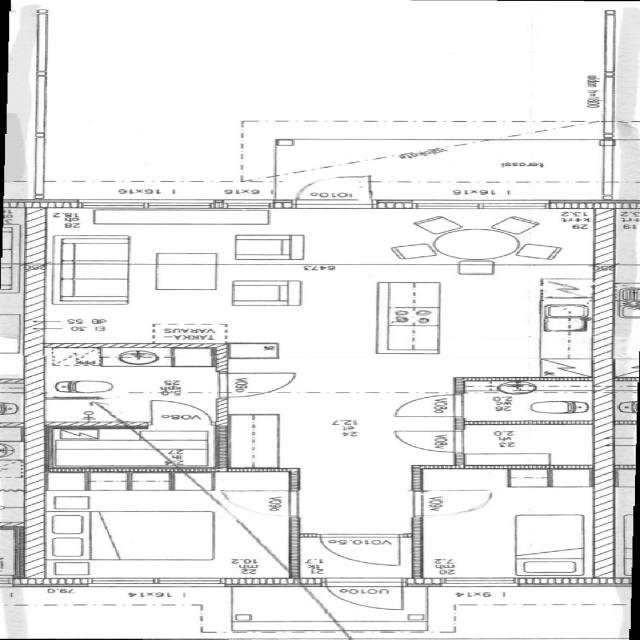door: (309, 529, 410, 568), (324, 577, 409, 614), (288, 173, 376, 207), (404, 488, 502, 518), (382, 426, 470, 456), (136, 398, 217, 430), (215, 369, 304, 398), (387, 393, 467, 419)
window: (72, 196, 256, 213), (392, 197, 573, 212), (76, 576, 235, 591), (432, 575, 530, 590)
zone: (45, 266, 598, 348), (51, 210, 617, 272), (28, 469, 295, 585), (413, 467, 622, 585), (42, 340, 224, 426), (44, 425, 215, 469), (454, 378, 616, 423), (452, 422, 613, 467)
